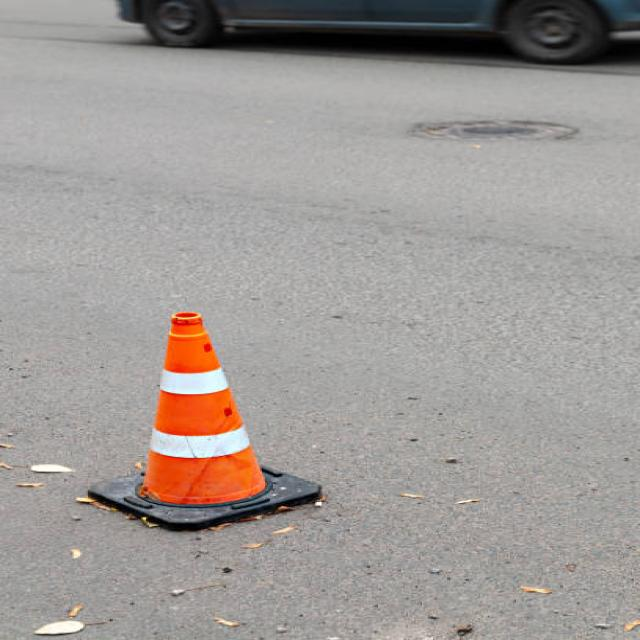Traffic Cone: (26, 254, 382, 556)
